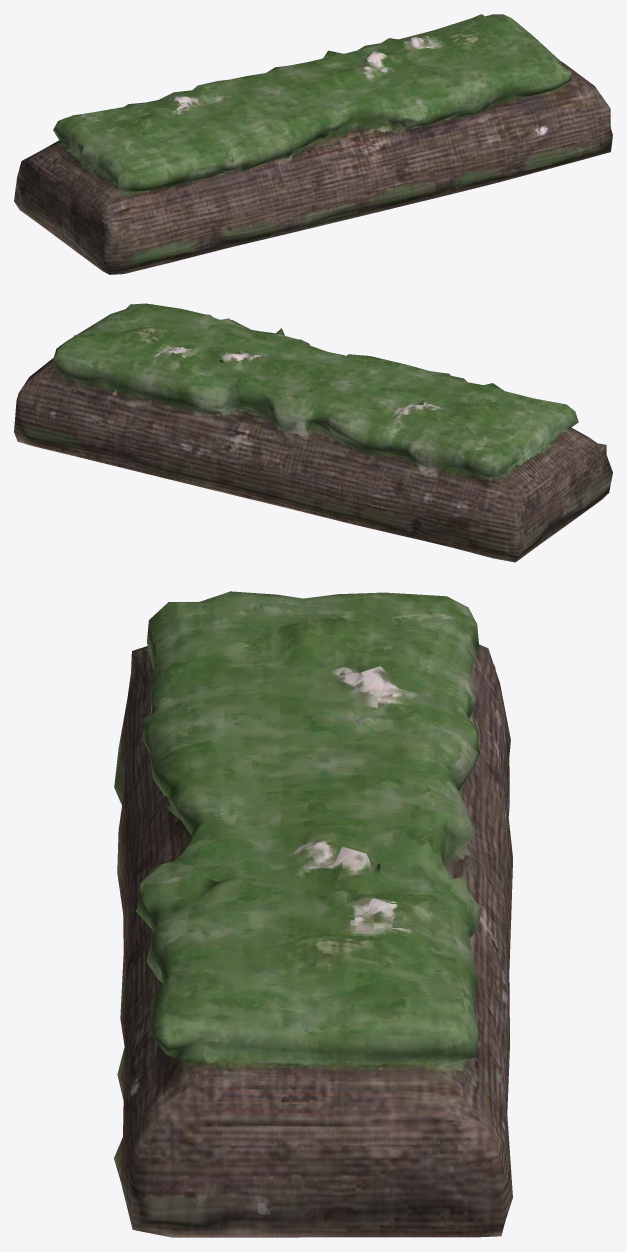
The model's file is RiverBank.glb.
3 renders of one model, top to bottom at view 1: azimuth 30°, elevation 25°; view 2: azimuth 150°, elevation 25°; view 3: azimuth 270°, elevation 25°, orthographic. The views are drawn at different scales.
Size of the model in its own units: 0.9906 by 0.1967 by 0.3346.
Materials: 1 (1 with a texture image).
